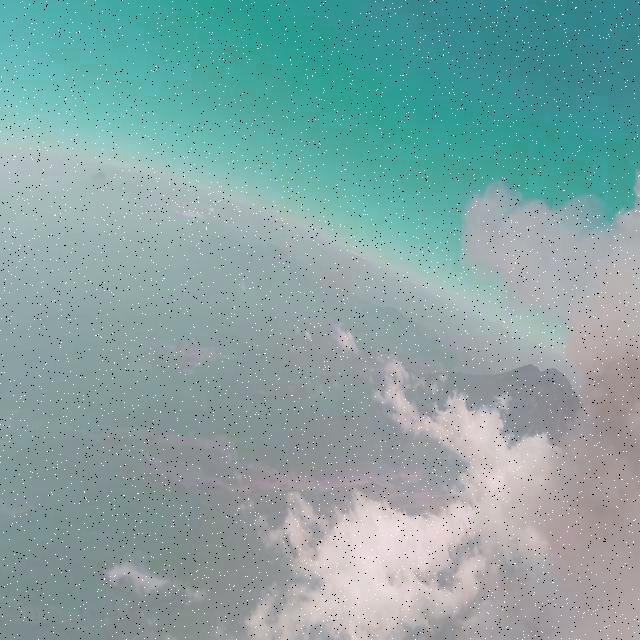Plume: (462, 152, 640, 640)
